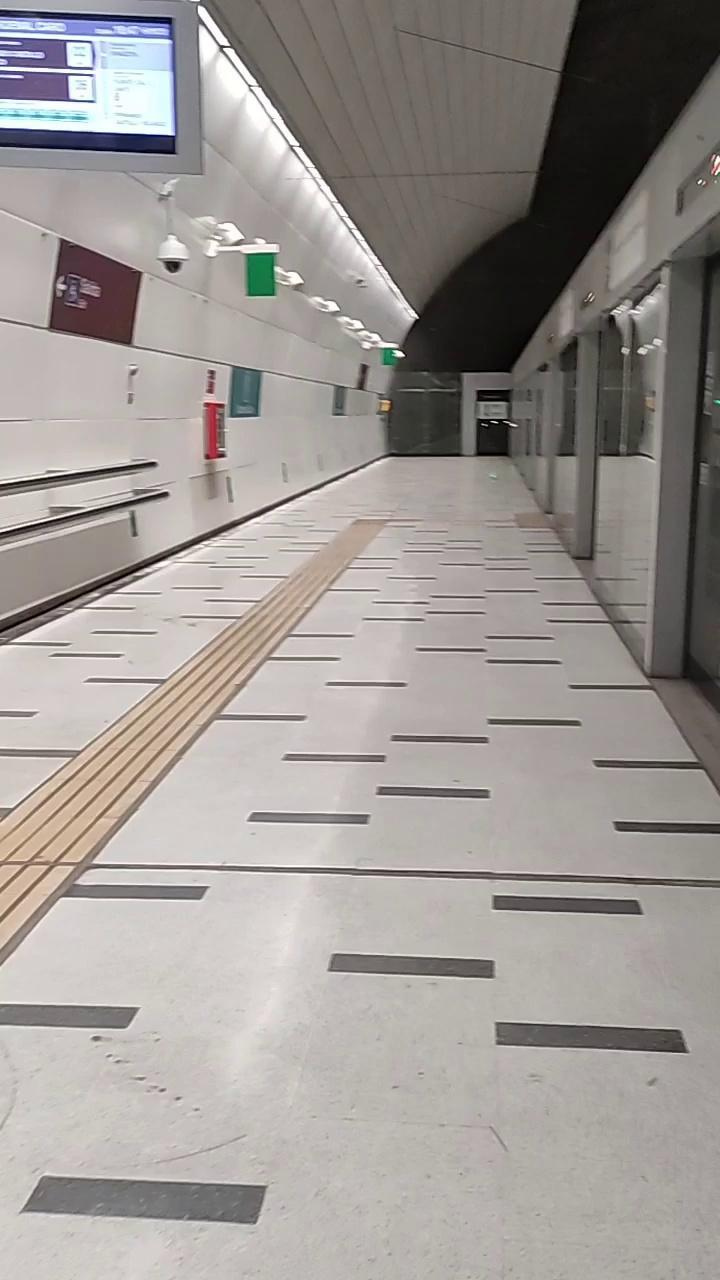handicapped symbol: (66, 278, 84, 304)
left arrow: (54, 272, 66, 302)
